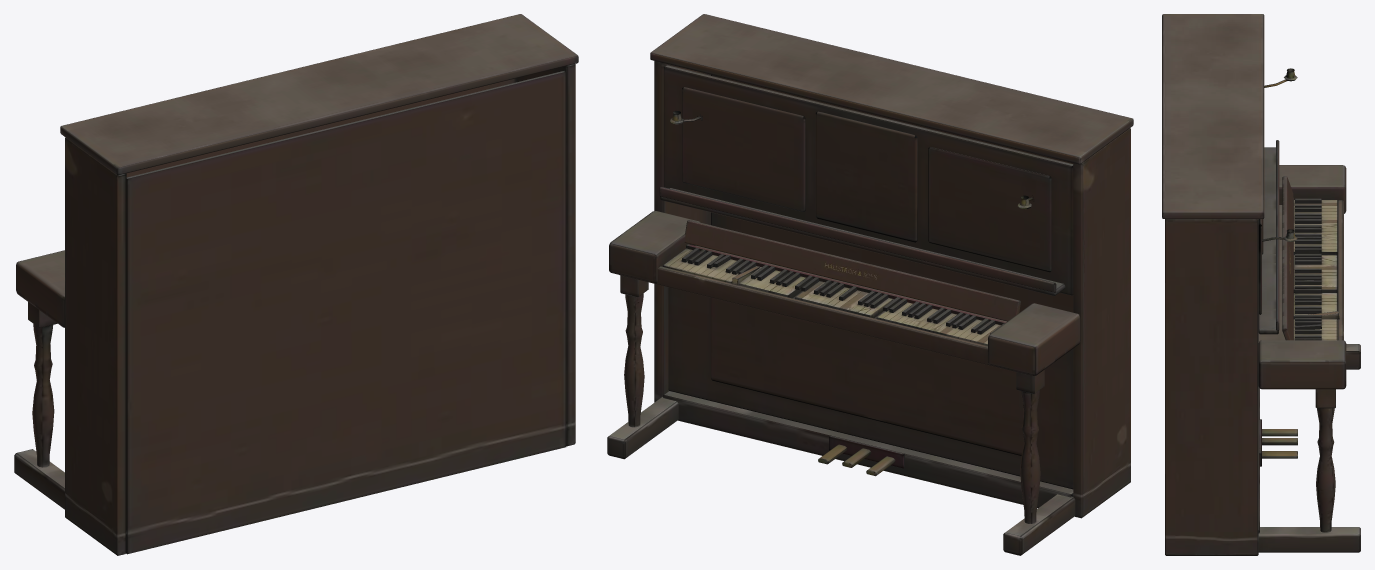
File: furniture_piano.glb
The picture shows the model from 3 angles, left to right: view 1: azimuth 30°, elevation 25°; view 2: azimuth 150°, elevation 25°; view 3: azimuth 270°, elevation 25°; orthographic projection. The views are drawn at different scales.
Parts seen in each view (by area): view 1: furniture_piano; view 2: furniture_piano; view 3: furniture_piano.
Boxes of the visible parts, box(x1,y1,x2,y2) form: furniture_piano: box(14, 14, 578, 555); furniture_piano: box(607, 14, 1133, 555); furniture_piano: box(1162, 14, 1360, 555).
Bounding box in the file's own units: 1.61 × 1.3 × 0.68.
Materials: 1 (1 with a texture image).
